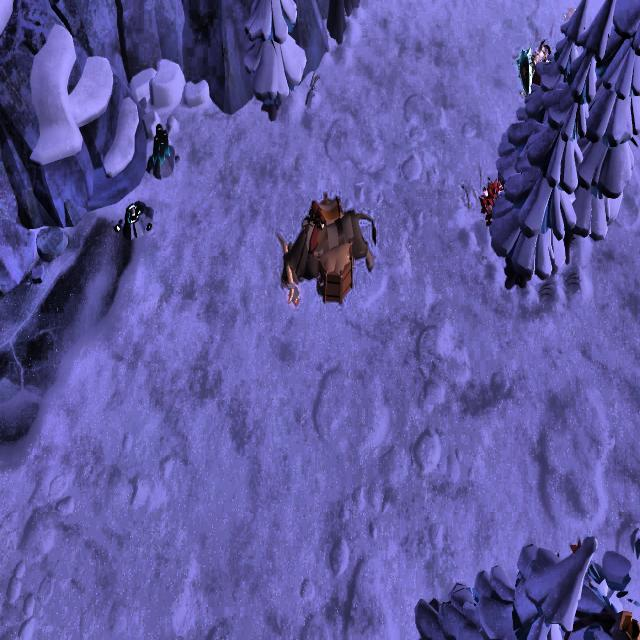ore_t4: (149, 117, 171, 165)
